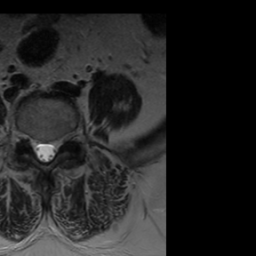CCS_normal: (40, 134, 48, 170)
LFS_normal: (57, 128, 67, 153)
LLS_normal: (49, 132, 57, 163)
RFS_normal: (23, 126, 32, 149)
RLS_normal: (32, 131, 40, 163)
